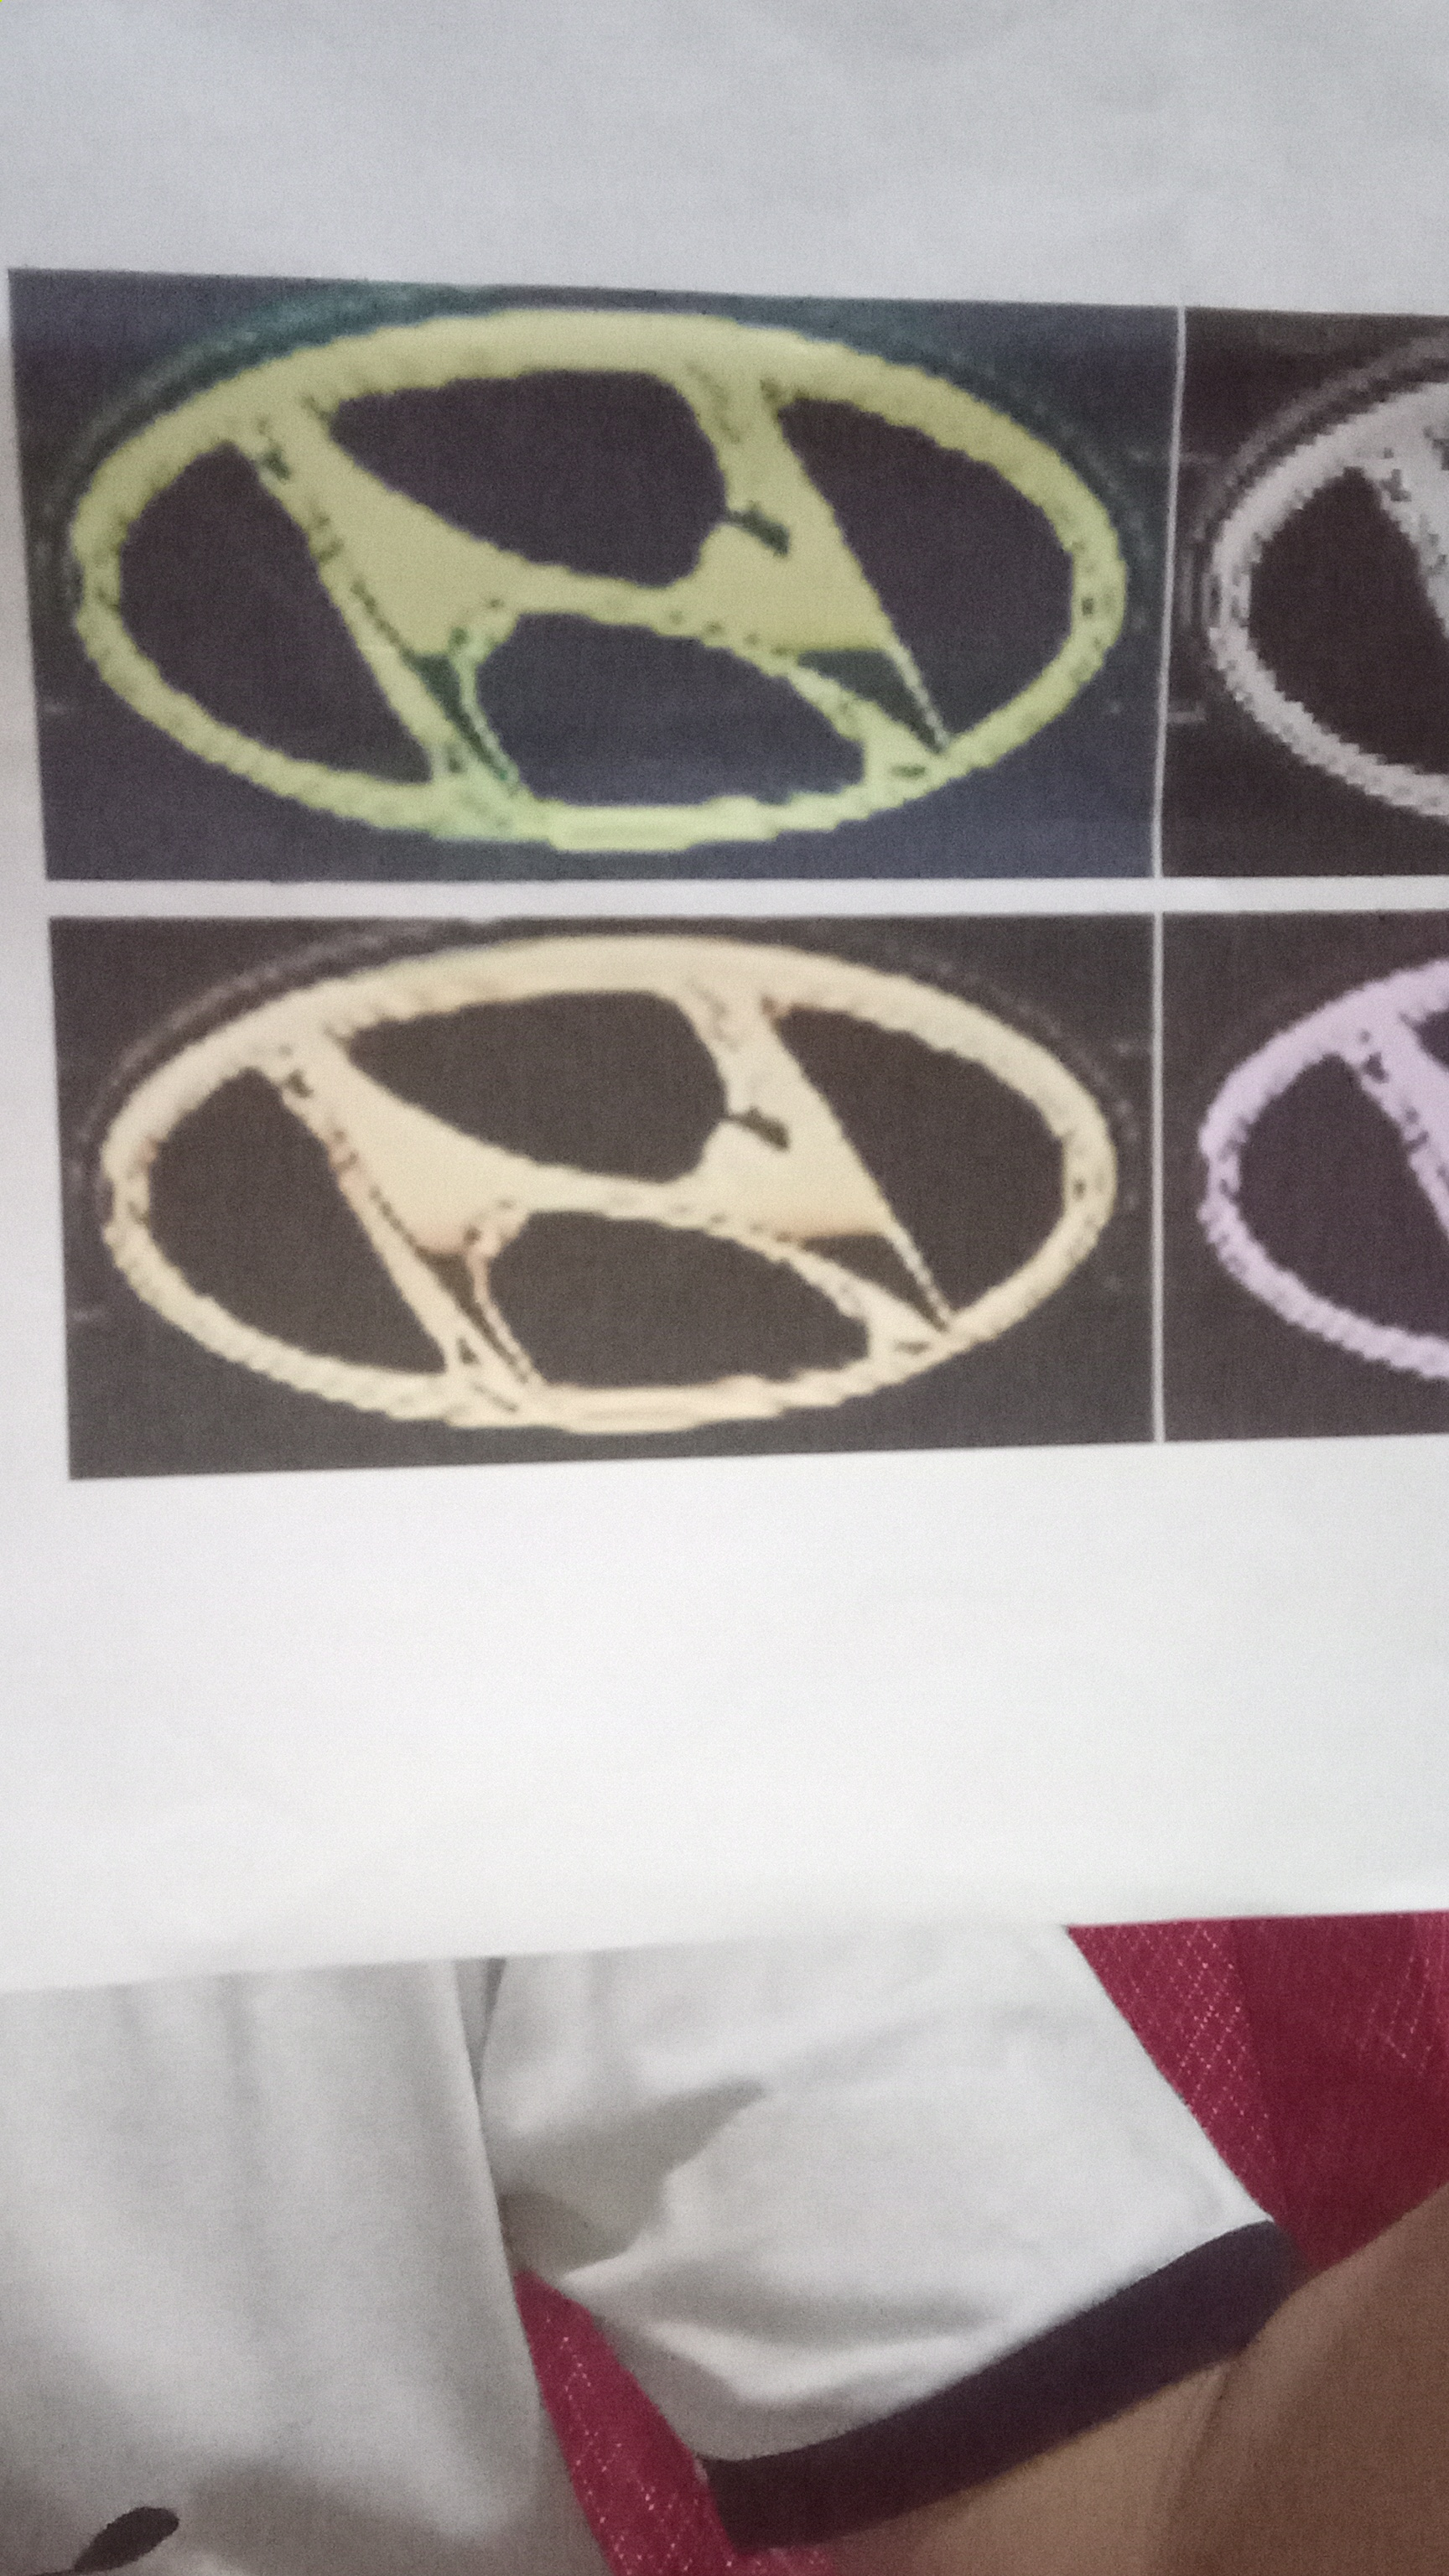Hyundai: (21, 265, 1166, 888), (64, 913, 1139, 1474)
